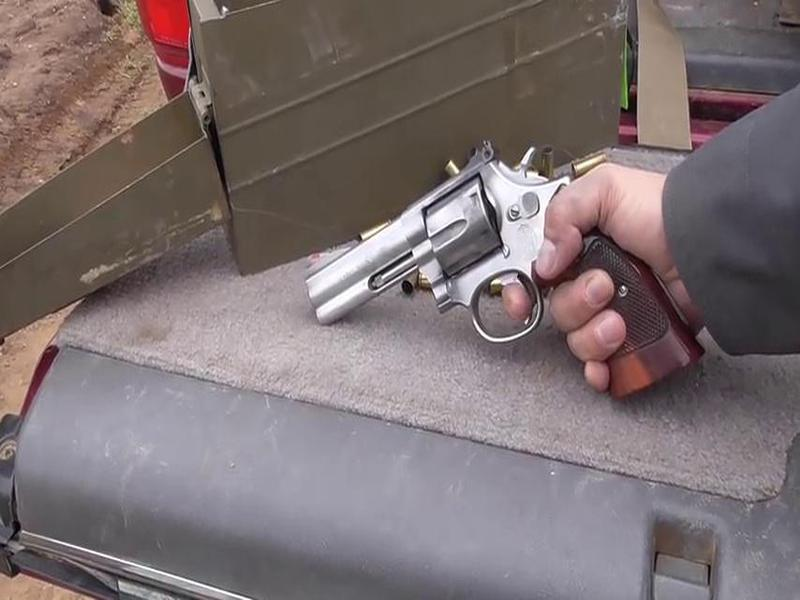Revolver: (304, 128, 695, 402)
